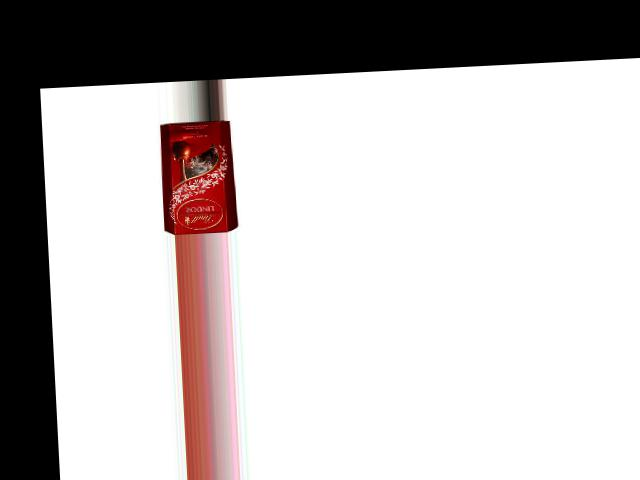chocolate: (153, 119, 239, 235)
